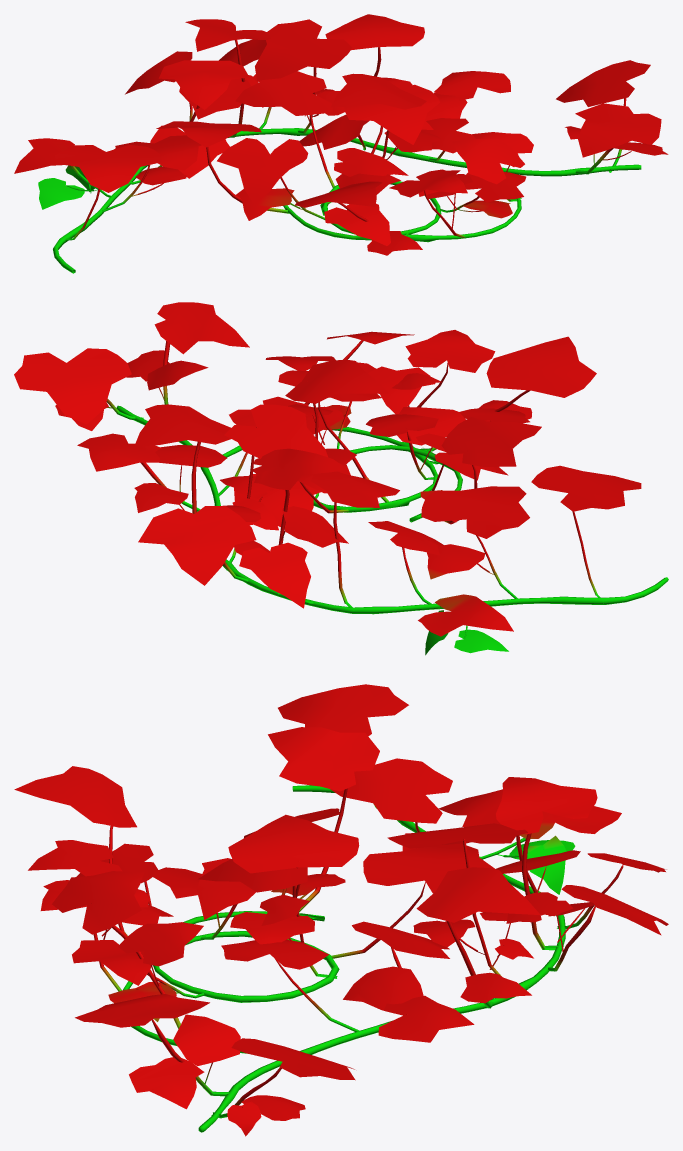
File: Var3_LOD1.fbx
3 views of the same model, one above another, from view 1: azimuth 30°, elevation 25°; view 2: azimuth 150°, elevation 25°; view 3: azimuth 270°, elevation 25° (orthographic). The views are drawn at different scales.
Visible parts, largest first — view 1: _4jaq_Var3_LOD1; view 2: _4jaq_Var3_LOD1; view 3: _4jaq_Var3_LOD1.
Boxes of the visible parts, left/top/right/bottom form: _4jaq_Var3_LOD1: left=14, top=14, right=668, bottom=273; _4jaq_Var3_LOD1: left=14, top=302, right=668, bottom=655; _4jaq_Var3_LOD1: left=14, top=684, right=668, bottom=1136.
Size of the model in its own units: 59.19 by 13.42 by 43.88.
